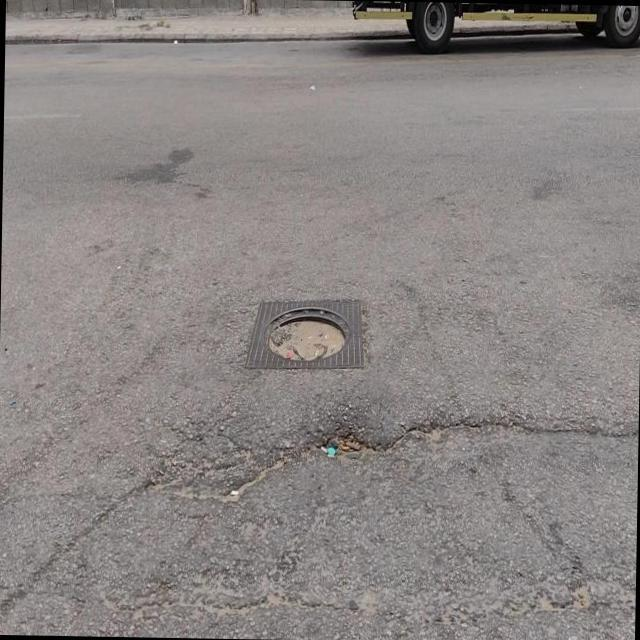Pothole: (261, 304, 352, 364)
